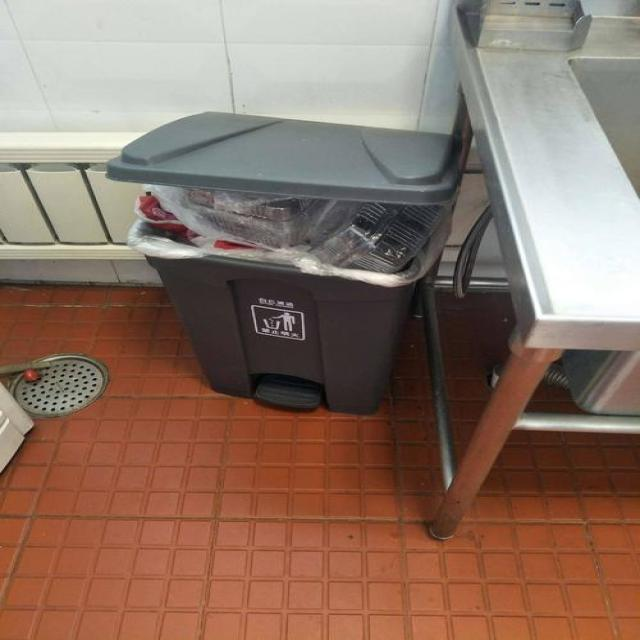overflow: (103, 111, 460, 413)
